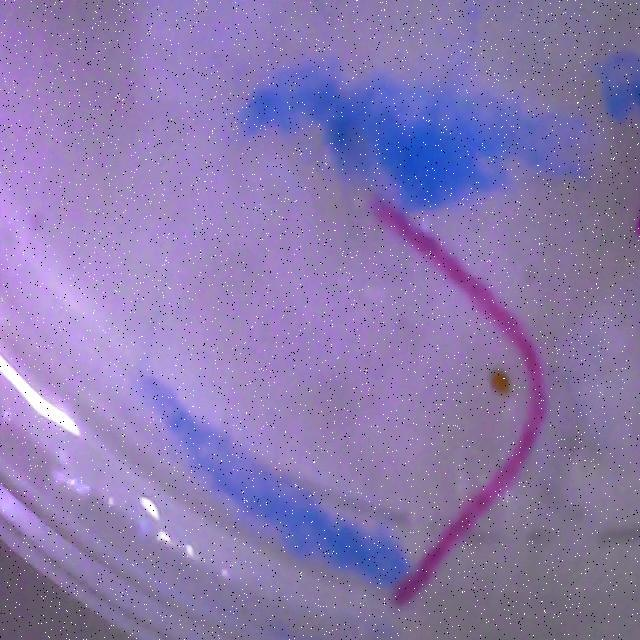fibers: (352, 197, 558, 613)
